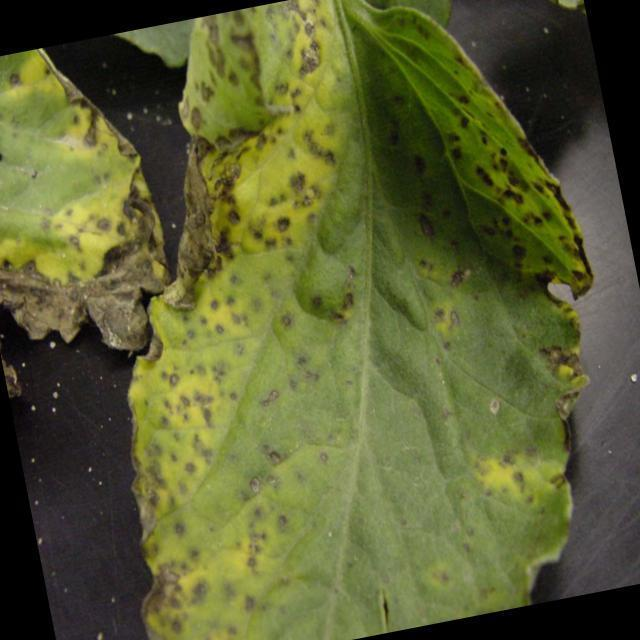Bacterial Spot: (171, 0, 407, 498), (359, 0, 595, 419), (0, 50, 133, 276)
